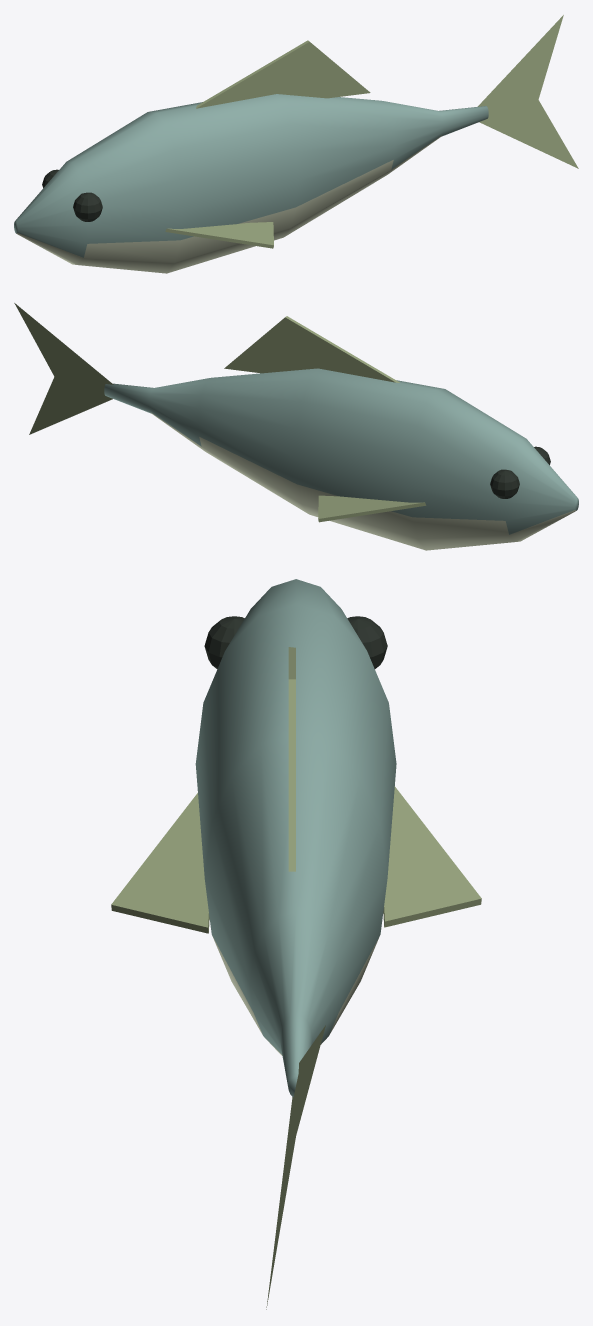
File: river_dace.glb
The picture shows the model from 3 angles, top to bottom: view 1: azimuth 30°, elevation 25°; view 2: azimuth 150°, elevation 25°; view 3: azimuth 270°, elevation 25°; orthographic projection. The views are drawn at different scales.
Visible parts, largest first — view 1: river_dace_body, river_dace_forked_tail, river_dace_dorsal, river_dace_pectoral, Sphere; view 2: river_dace_body, river_dace_dorsal, river_dace_forked_tail, river_dace_pectoral.001, Sphere.001; view 3: river_dace_body, river_dace_pectoral.001, river_dace_pectoral, river_dace_forked_tail, river_dace_dorsal, Sphere, Sphere.001.
Part boxes in pixels (bbox=[...]): river_dace_body: bbox=[14, 94, 488, 273]; river_dace_forked_tail: bbox=[477, 15, 578, 168]; river_dace_dorsal: bbox=[196, 40, 370, 108]; river_dace_pectoral: bbox=[165, 222, 273, 248]; Sphere: bbox=[73, 192, 102, 221]; river_dace_body: bbox=[104, 368, 578, 550]; river_dace_dorsal: bbox=[224, 316, 399, 382]; river_dace_forked_tail: bbox=[14, 303, 113, 434]; river_dace_pectoral.001: bbox=[318, 495, 426, 522]; Sphere.001: bbox=[490, 469, 519, 498]; river_dace_body: bbox=[195, 579, 396, 1097]; river_dace_pectoral.001: bbox=[383, 786, 481, 927]; river_dace_pectoral: bbox=[111, 793, 209, 933]; river_dace_forked_tail: bbox=[266, 1025, 325, 1309]; river_dace_dorsal: bbox=[288, 647, 295, 871]; Sphere: bbox=[204, 616, 244, 668]; Sphere.001: bbox=[347, 616, 387, 668].
Size of the model in its own units: 0.3422 by 0.1151 by 0.0989.
